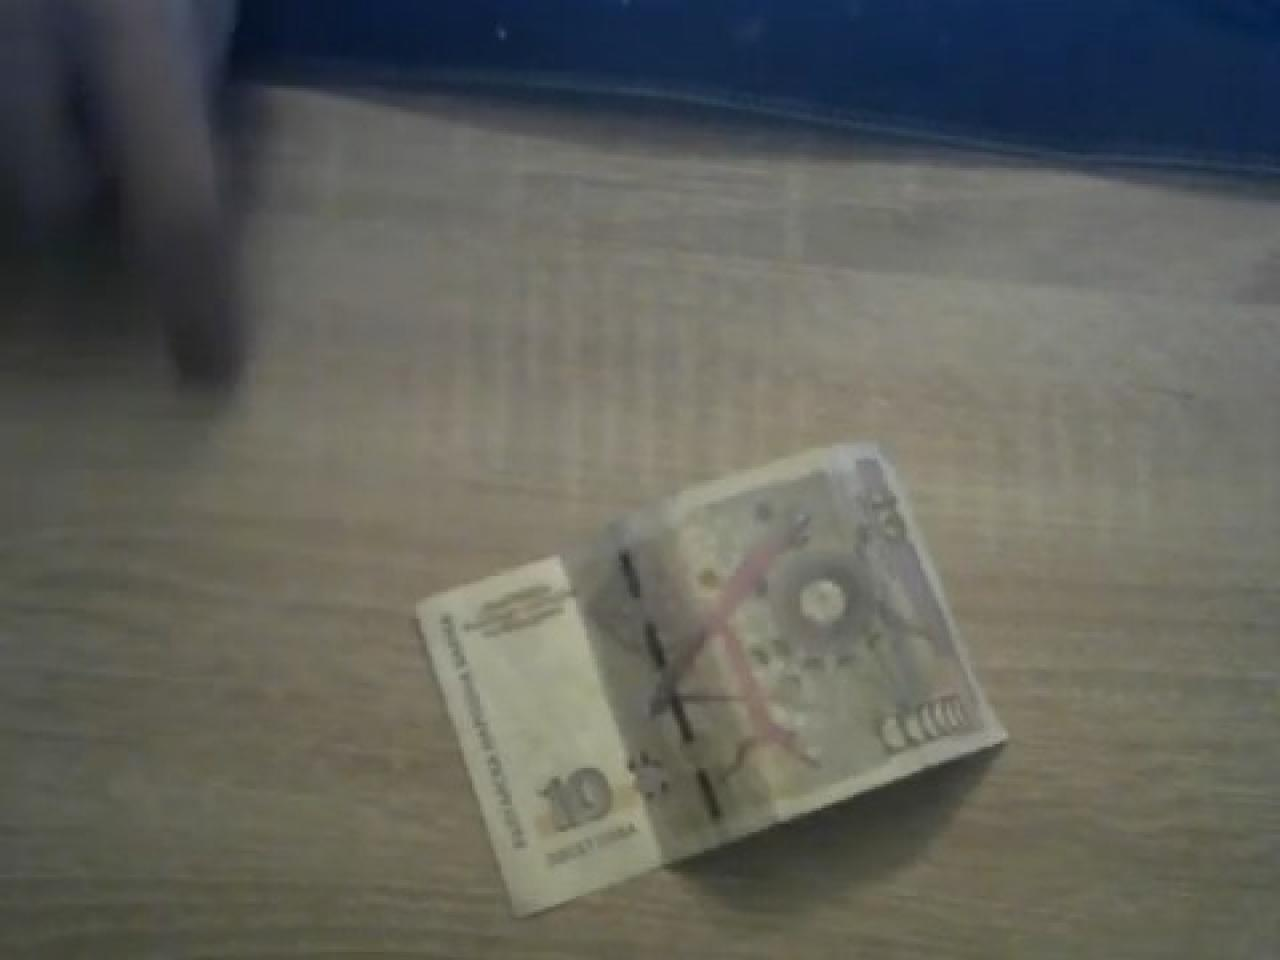10leva: (413, 443, 1008, 920)
